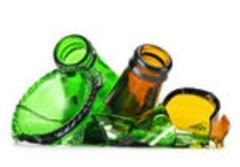glass: (12, 32, 232, 148)
